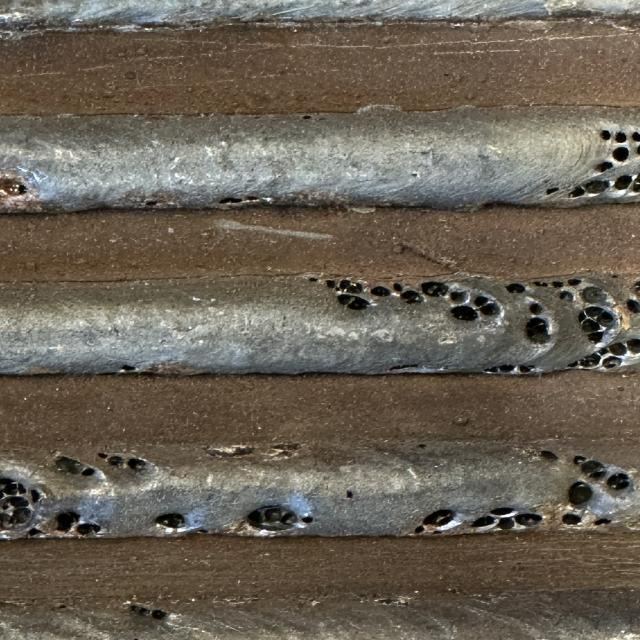Porosity: (570, 338, 640, 371), (572, 339, 640, 371), (578, 306, 617, 344), (247, 505, 298, 531), (413, 509, 462, 535), (55, 456, 95, 474), (525, 318, 550, 344), (568, 481, 593, 505), (207, 445, 255, 457), (325, 279, 365, 293), (473, 296, 500, 316), (337, 294, 370, 309), (483, 365, 538, 374), (156, 512, 185, 528), (57, 511, 80, 531), (582, 460, 607, 478), (582, 286, 608, 303), (268, 444, 299, 458), (452, 305, 478, 321), (607, 472, 630, 490), (422, 281, 448, 296), (583, 180, 610, 194), (515, 514, 543, 527), (627, 130, 640, 156), (218, 196, 260, 204), (98, 453, 123, 466), (77, 522, 102, 535), (400, 290, 423, 304), (472, 515, 495, 528), (128, 604, 152, 616), (613, 175, 632, 190), (127, 458, 147, 472), (450, 291, 468, 304), (505, 282, 525, 293), (497, 518, 515, 530), (612, 148, 628, 161), (568, 186, 585, 198), (148, 609, 168, 619), (562, 514, 582, 524), (370, 286, 390, 296), (595, 161, 613, 172), (390, 364, 418, 371), (528, 302, 543, 315), (490, 508, 513, 516), (627, 299, 640, 313), (540, 451, 558, 461), (30, 489, 42, 502), (632, 174, 640, 192), (560, 290, 573, 301), (545, 186, 560, 195), (593, 518, 612, 525), (615, 131, 627, 142), (573, 455, 587, 464), (600, 130, 612, 140), (632, 280, 640, 295), (28, 528, 42, 536), (393, 282, 403, 292), (568, 279, 582, 286), (302, 516, 313, 524), (552, 281, 563, 288), (533, 281, 548, 286), (145, 200, 157, 206), (307, 276, 317, 281), (347, 490, 353, 498), (303, 115, 312, 119)
Spatters: (0, 178, 27, 198), (452, 415, 470, 426), (447, 21, 460, 28)
